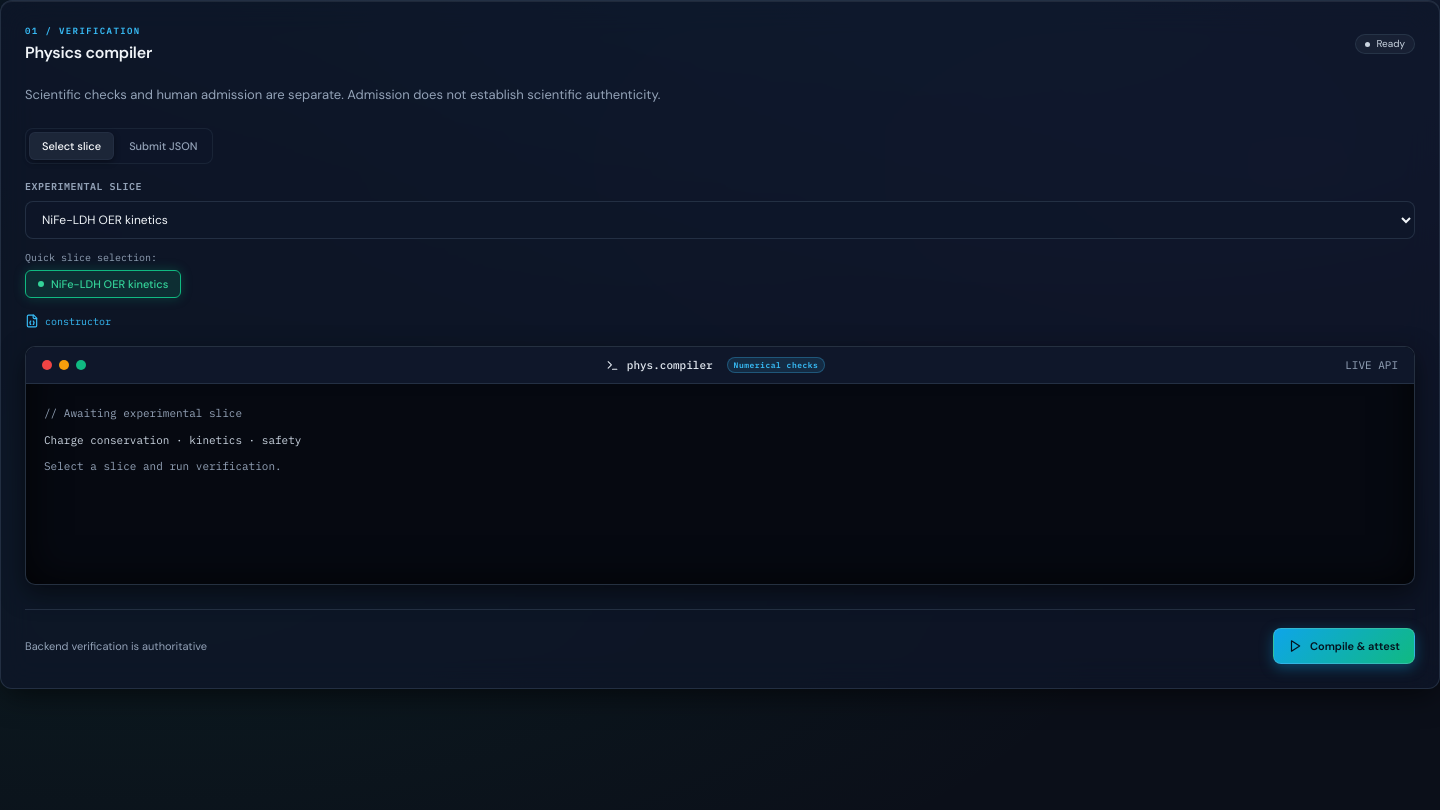
Test: compiler treats prototype-name API identifiers as ordinary records › renders an uncompiled catalog record and then its own verification report
Expected: the dropdown labelled "Experimental slice" shows "NiFe-LDH OER kinetics", top-left (25, 201), bottom-right (1415, 239)
Expected: the text "Ready" is shown, top-left (1355, 34), bottom-right (1415, 54)
Step 1. Click the button "Compile & attest" → (1344, 646), box top-left (1273, 628), bottom-right (1415, 664)
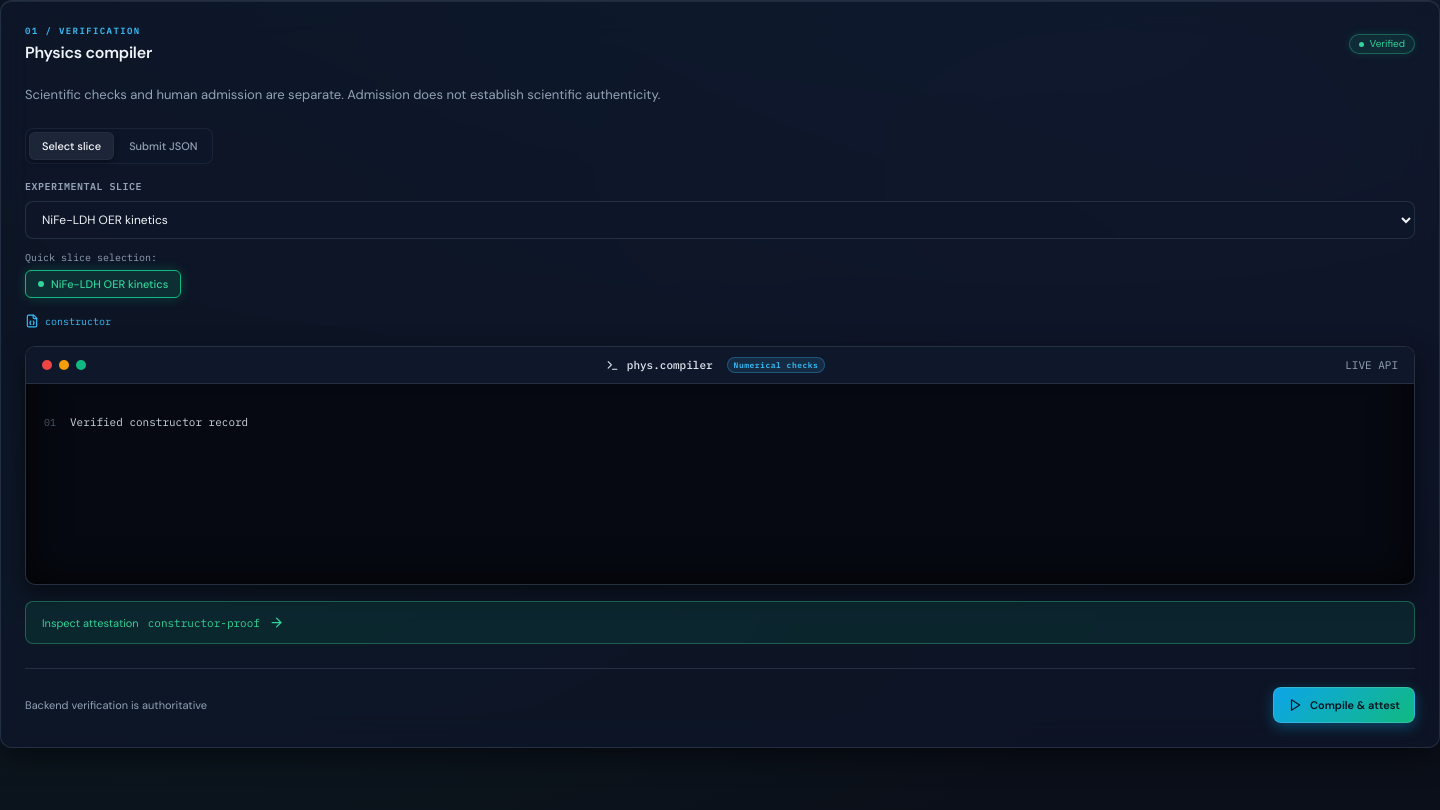
Expected: the text "Verified constructor record" is shown, top-left (70, 412), bottom-right (248, 433)
Expected: the button "Inspect attestation constructor-proof" is shown, top-left (25, 601), bottom-right (1415, 644)
